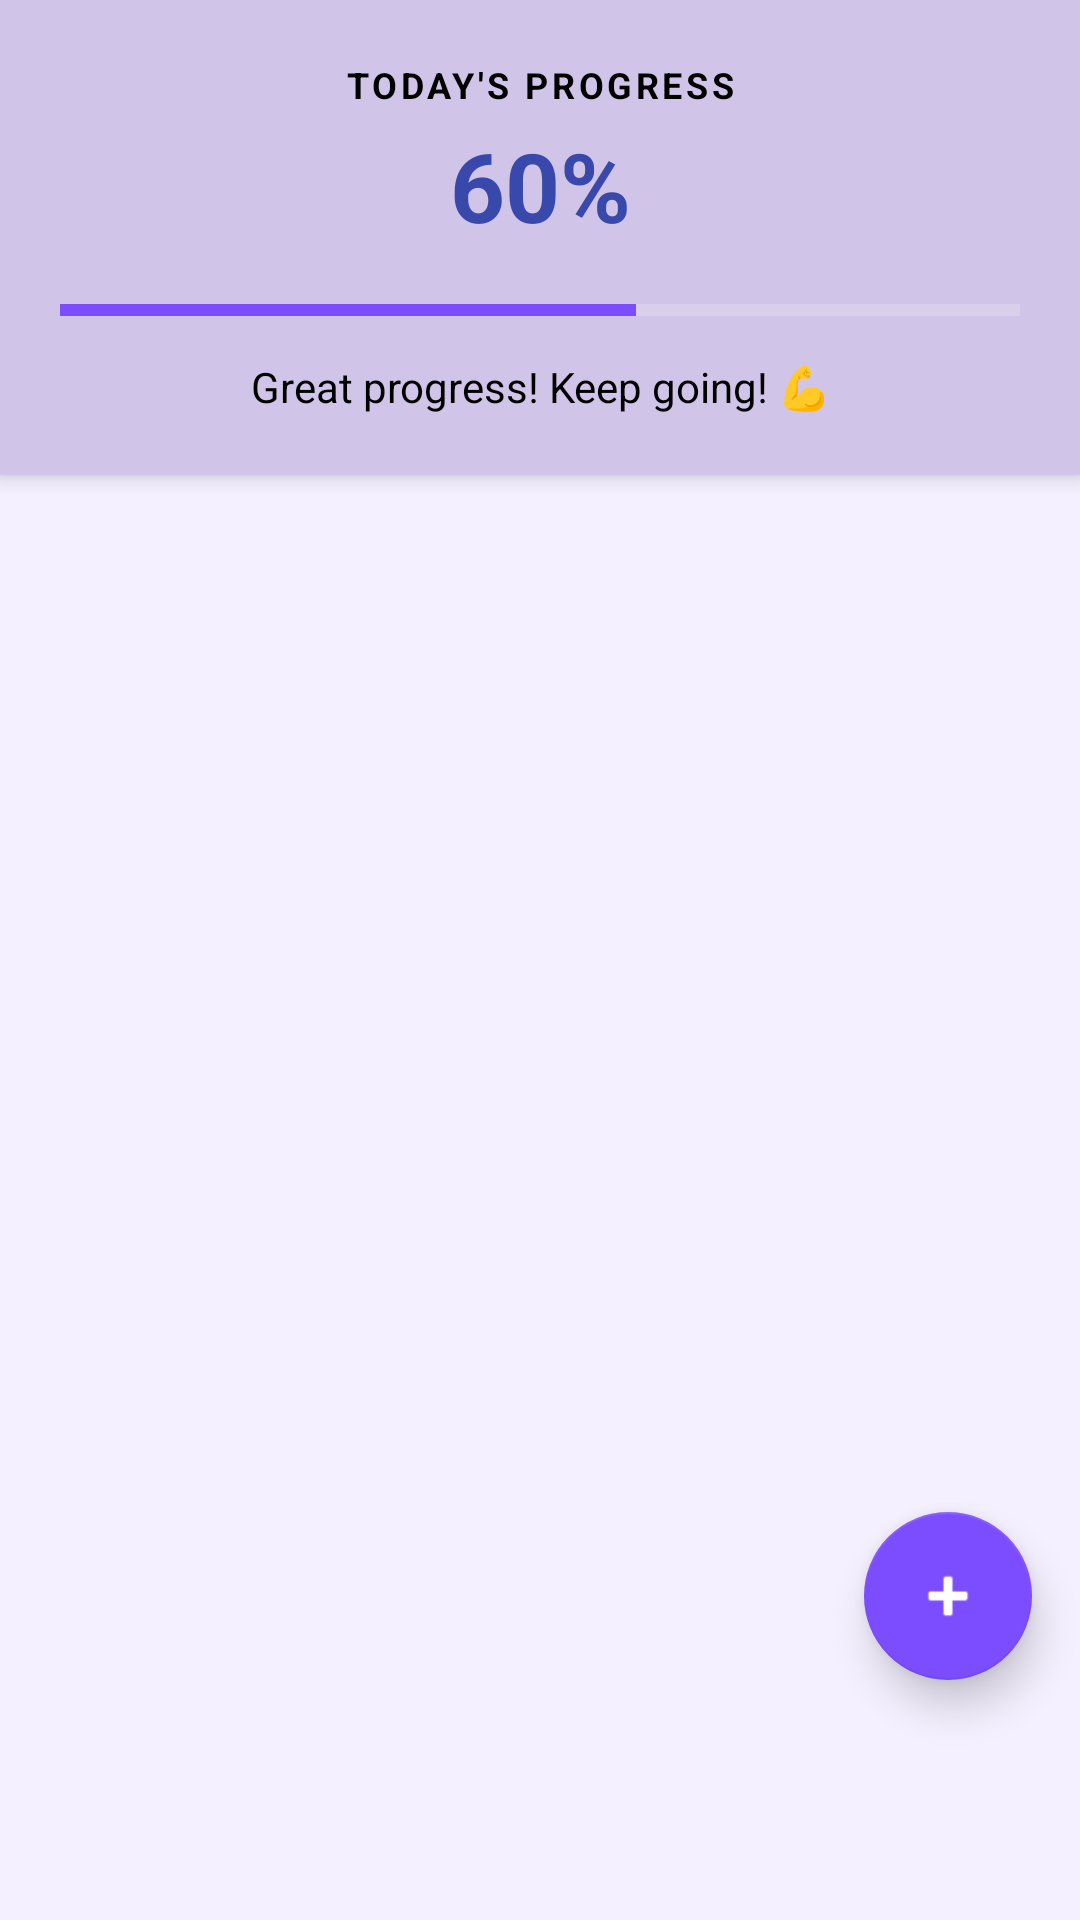

Screen size 1080 × 1920. Icon name, then its box in pixels as [left=x1, top=y1, right=x2, bottom=y2]:
add: [left=864, top=1512, right=1032, bottom=1680]
